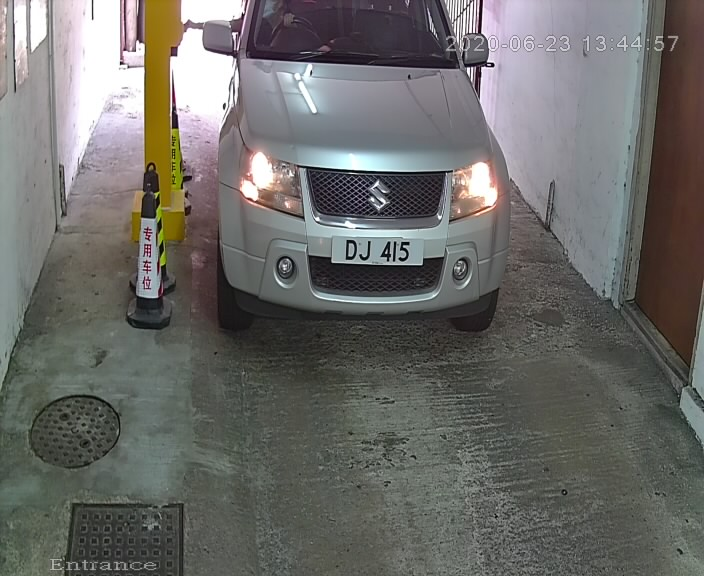privatecar: (198, 1, 537, 343)
